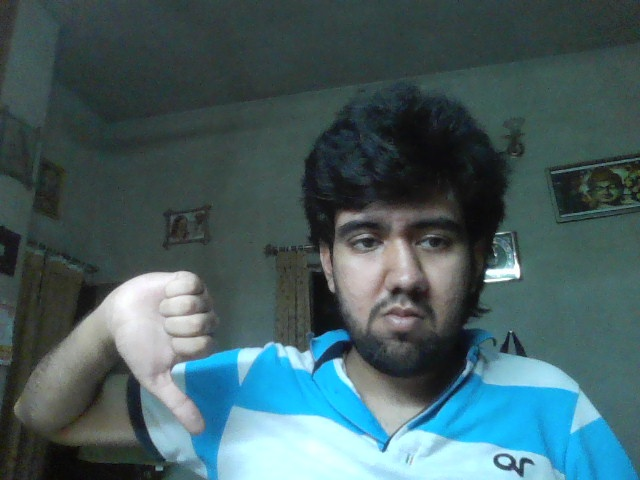NotOk: (120, 271, 217, 434)
